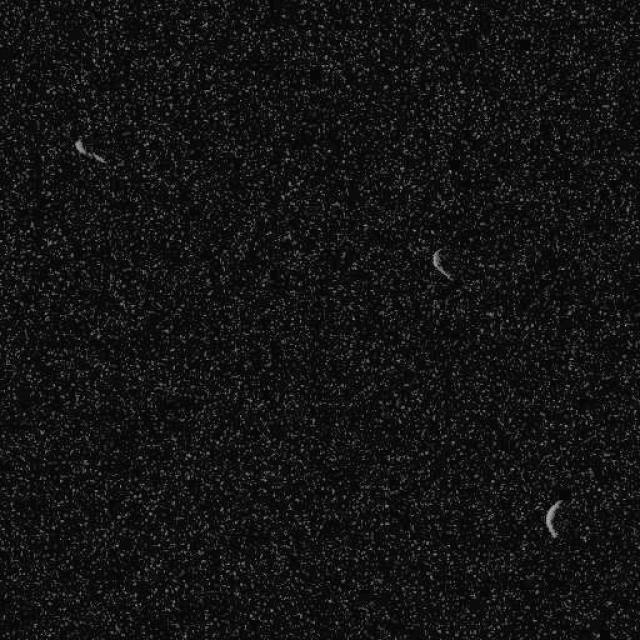D2: (72, 136, 106, 165), (430, 246, 454, 282), (544, 498, 564, 540)
